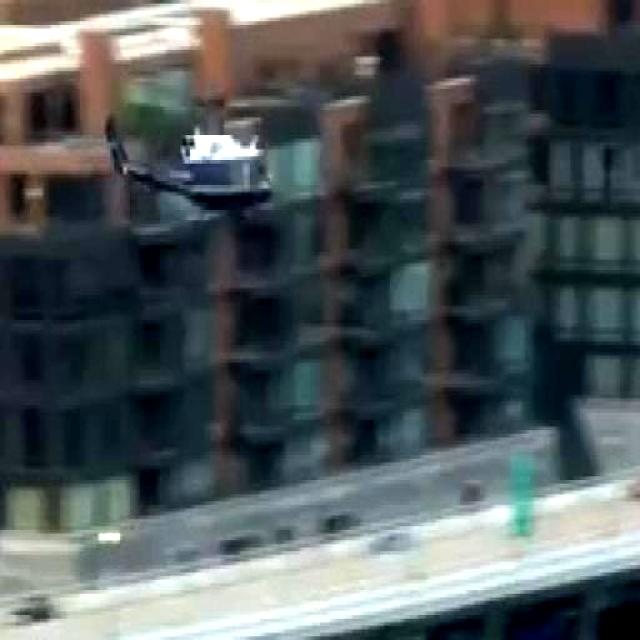drone: (89, 105, 289, 232)
